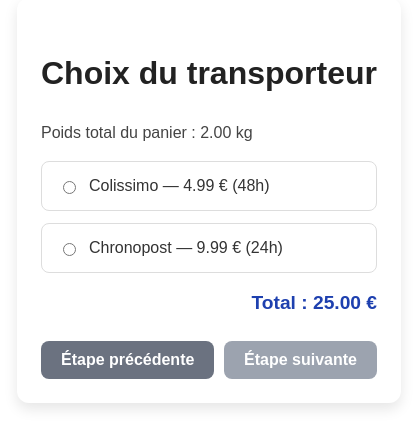
ShippingPage › permet de sélectionner un transporteur et active le bouton
Check: the button "Étape suivante" is disabled, box [224,341,377,379]
Click the radio button labelled "Colissimo — 4.99 € (48h)".
click(70, 187)  # box [63,180,76,194]
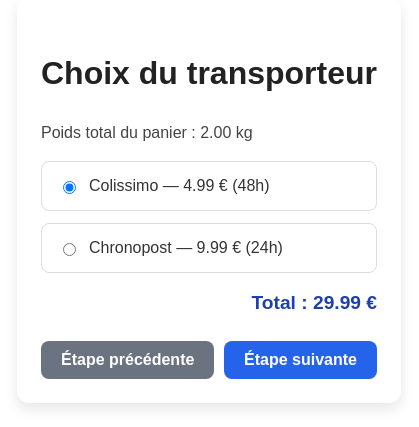
Check: the radio button labelled "Colissimo — 4.99 € (48h)" is checked, box [63,180,76,194]
Check: the button "Étape suivante" is enabled, box [224,341,377,379]
